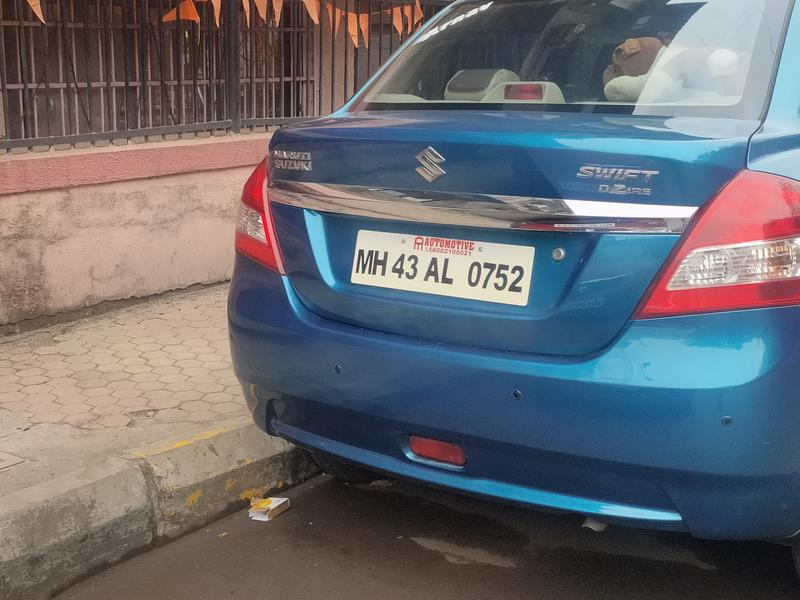license_plate: (349, 218, 547, 324)
